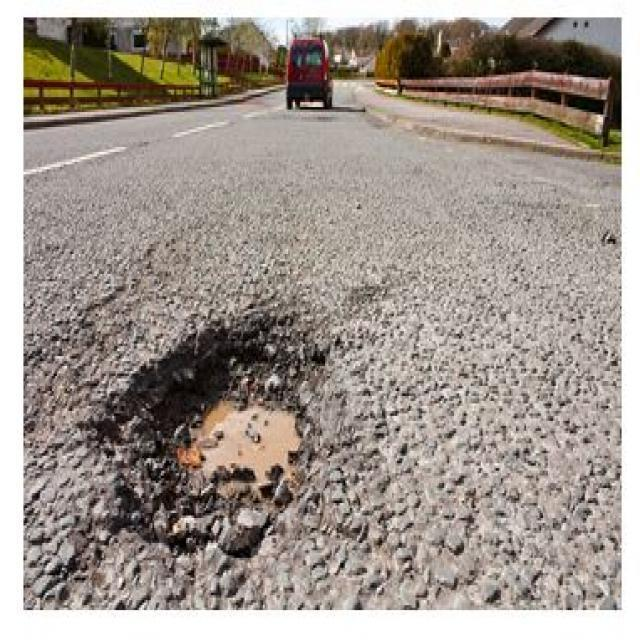Pothole: (82, 304, 340, 566)
